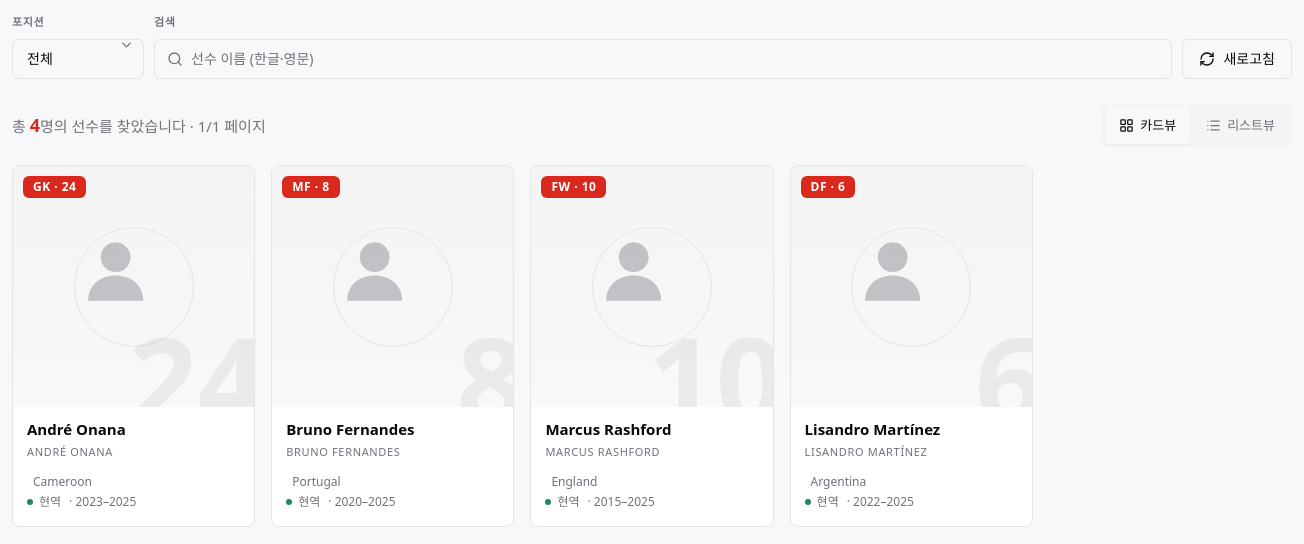
RosterPanel › 포지션 필터 — GK를 선택하면 결과가 1명(Onana)으로 좁혀진다
Click the button with aria-label "포지션".
click(78, 59)  # box [12, 39, 144, 79]
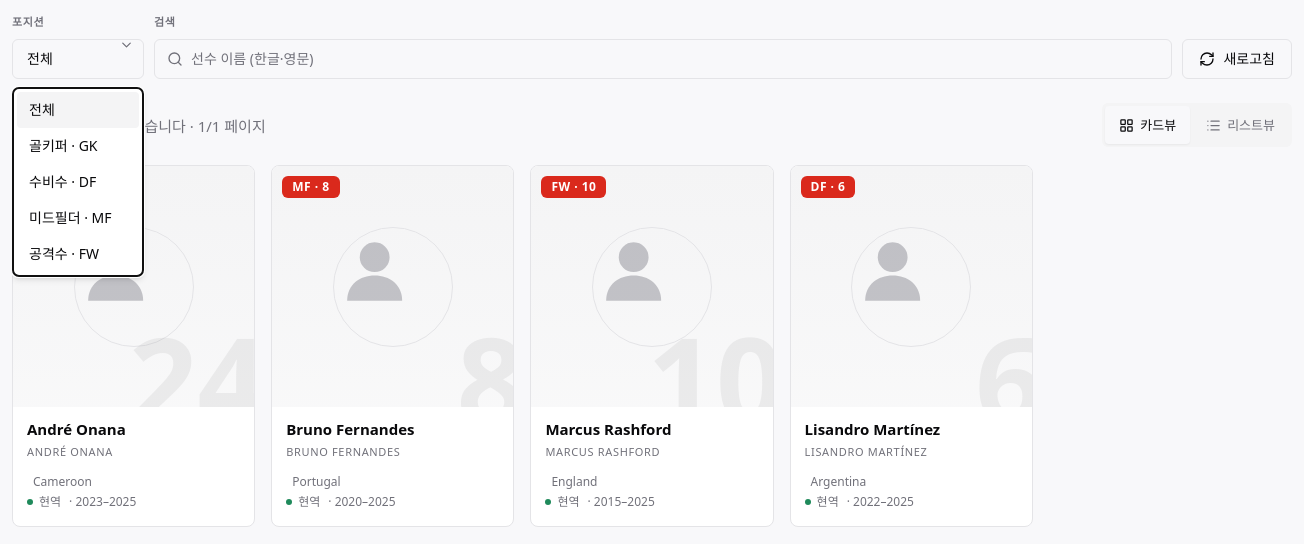
Click the option "골키퍼 · GK".
click(63, 146)  # box [29, 136, 98, 155]
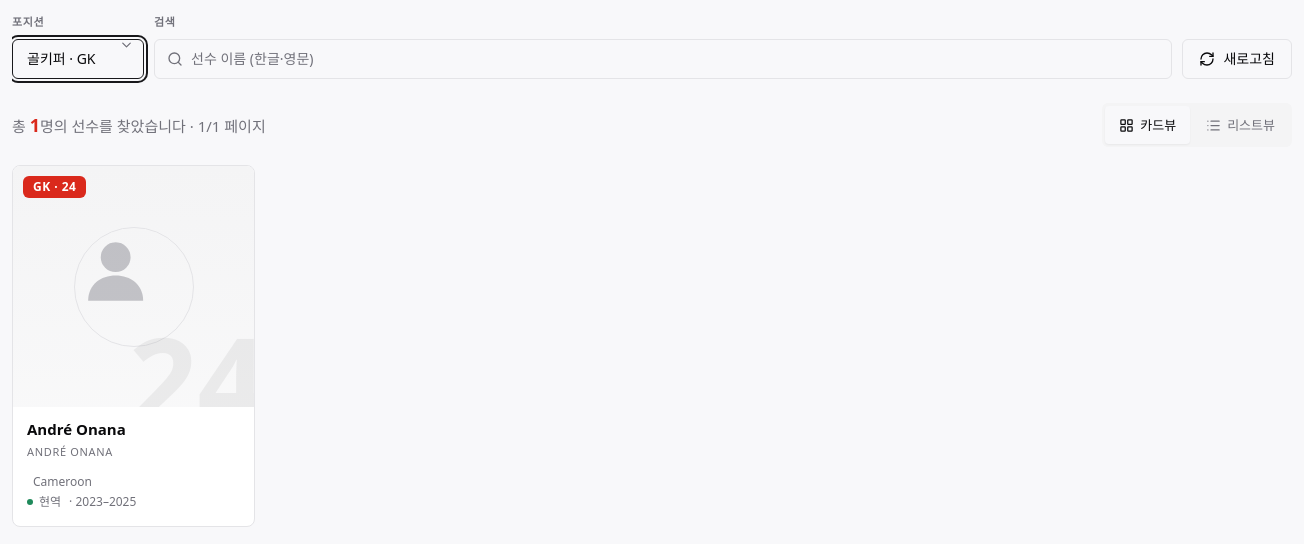
expect the 1st text "André Onana" is shown: met, box [27, 419, 126, 439]
expect the text "총 1명의 선수를 찾았습니다" is shown: met, box [12, 112, 266, 138]
